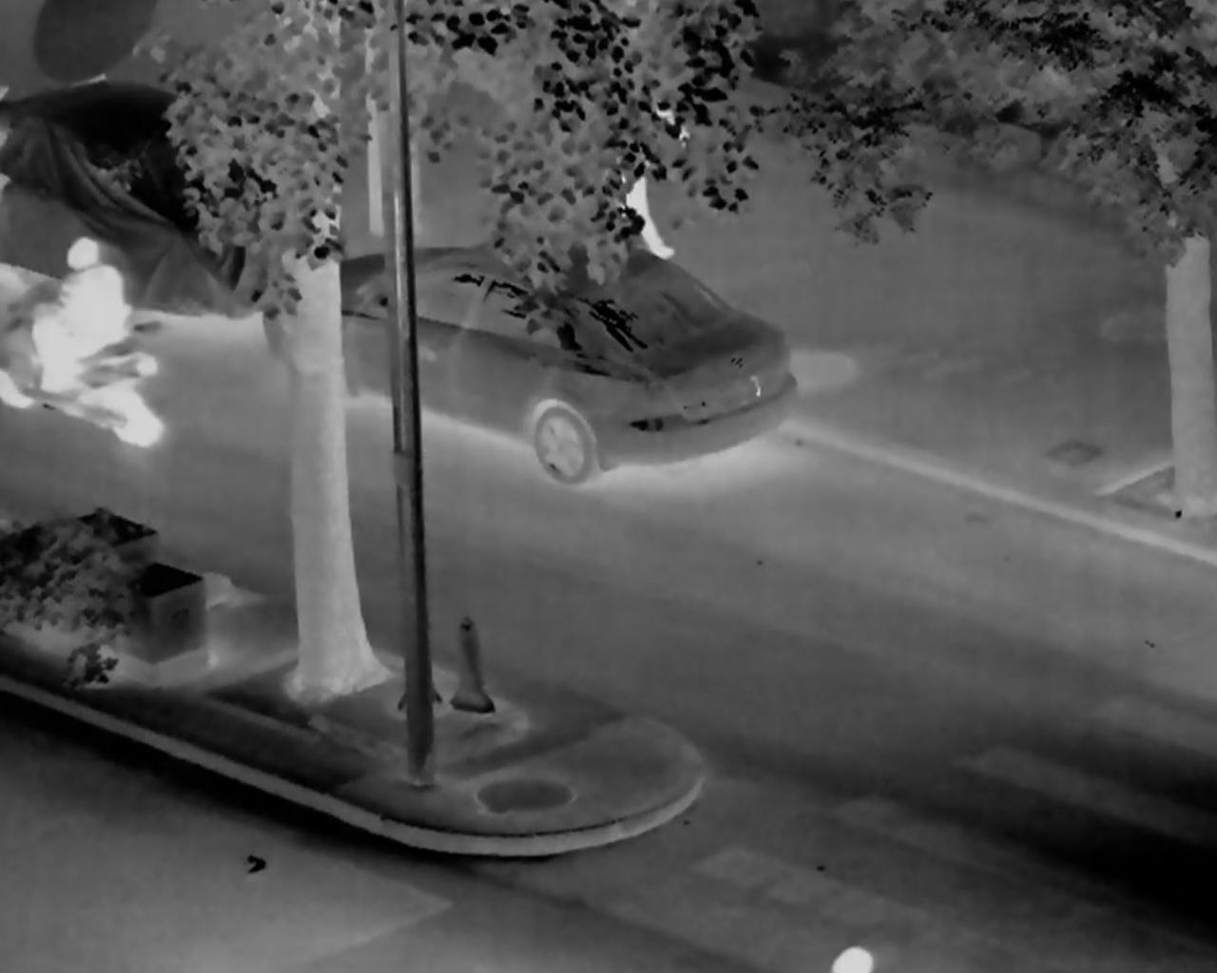person: (590, 51, 690, 264), (33, 238, 129, 403)
